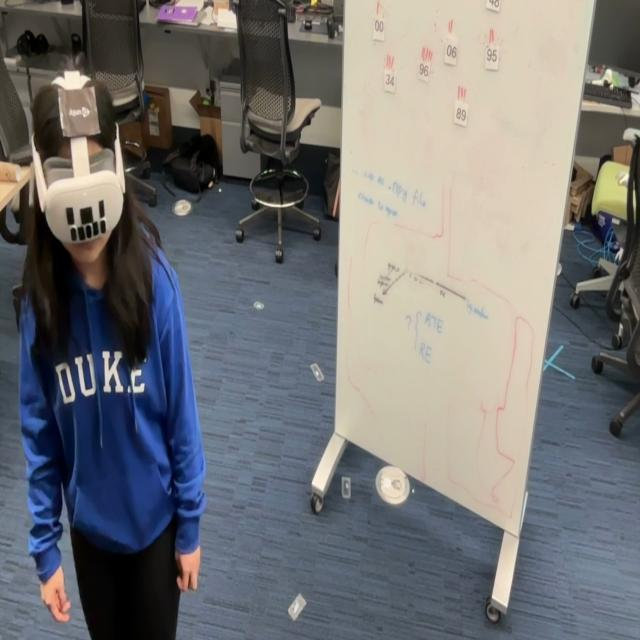UnityLogo: (29, 63, 128, 249), (56, 91, 101, 146)
